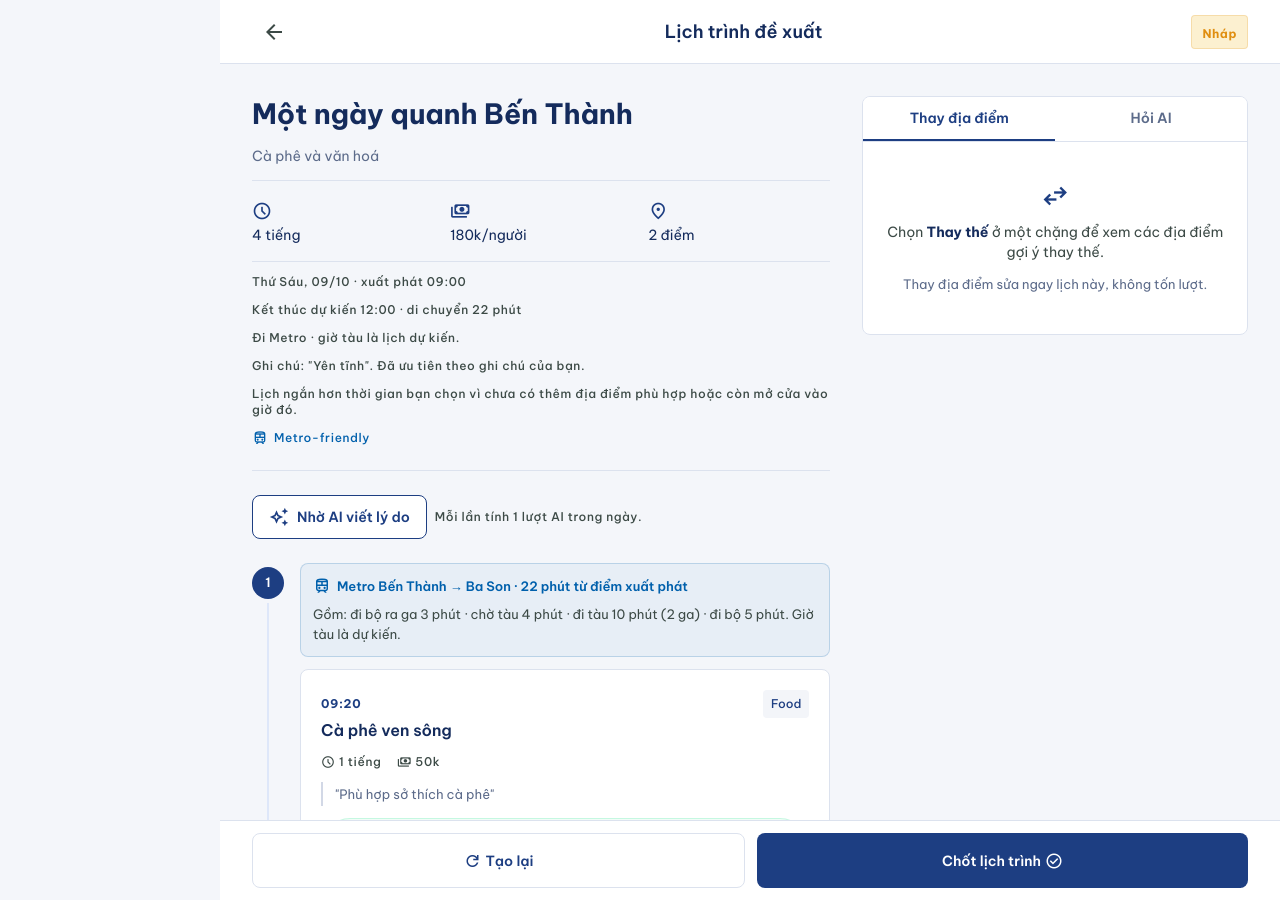
USER-A5.2 finalize by plan saved-trip quota › unlimited saving never blocks
Step 1. Click the button "Chốt lịch trình" → point(1002, 860), box left=757, top=833, right=1248, bottom=888
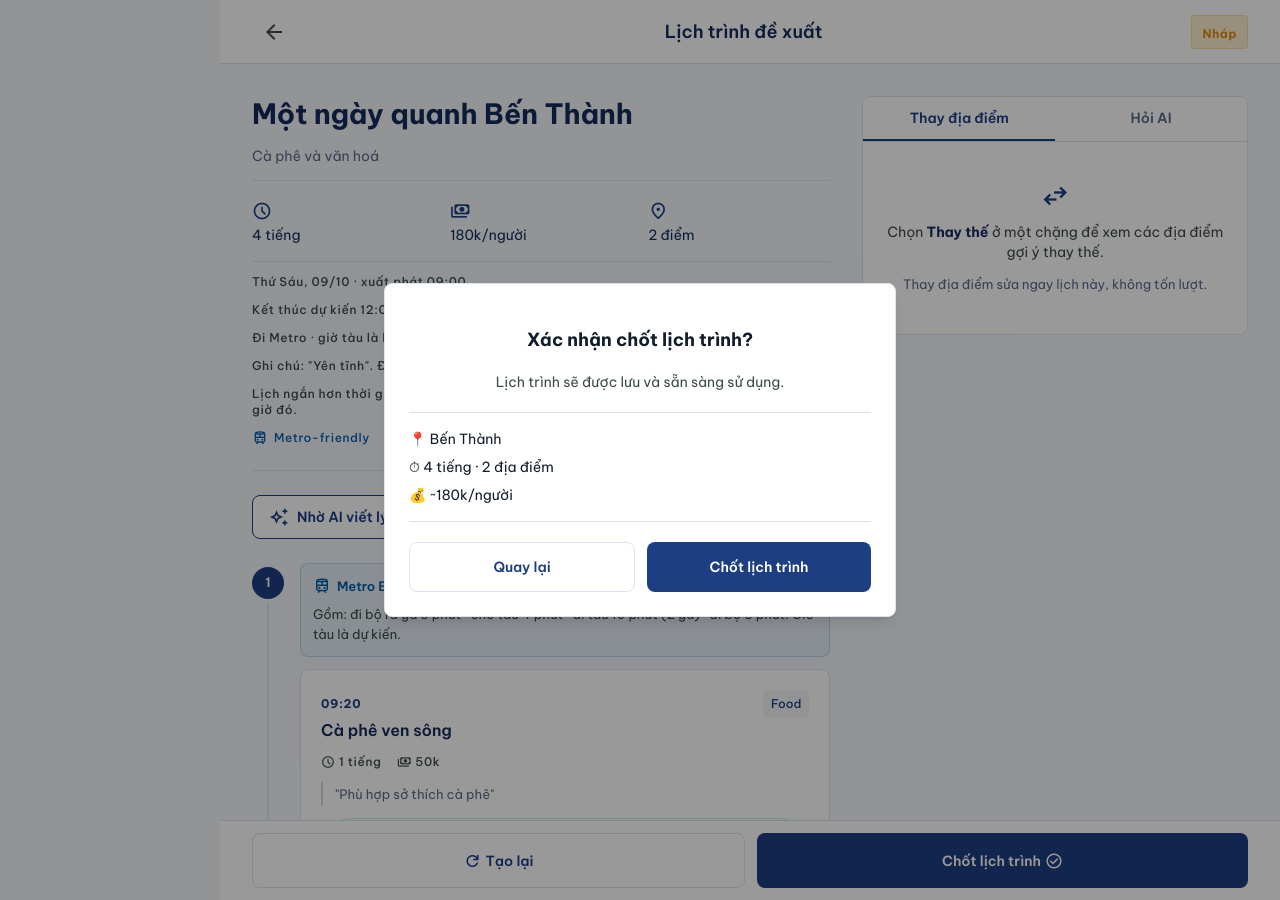
Result: the button "Chốt lịch trình" is enabled at left=647, top=542, right=871, bottom=592
